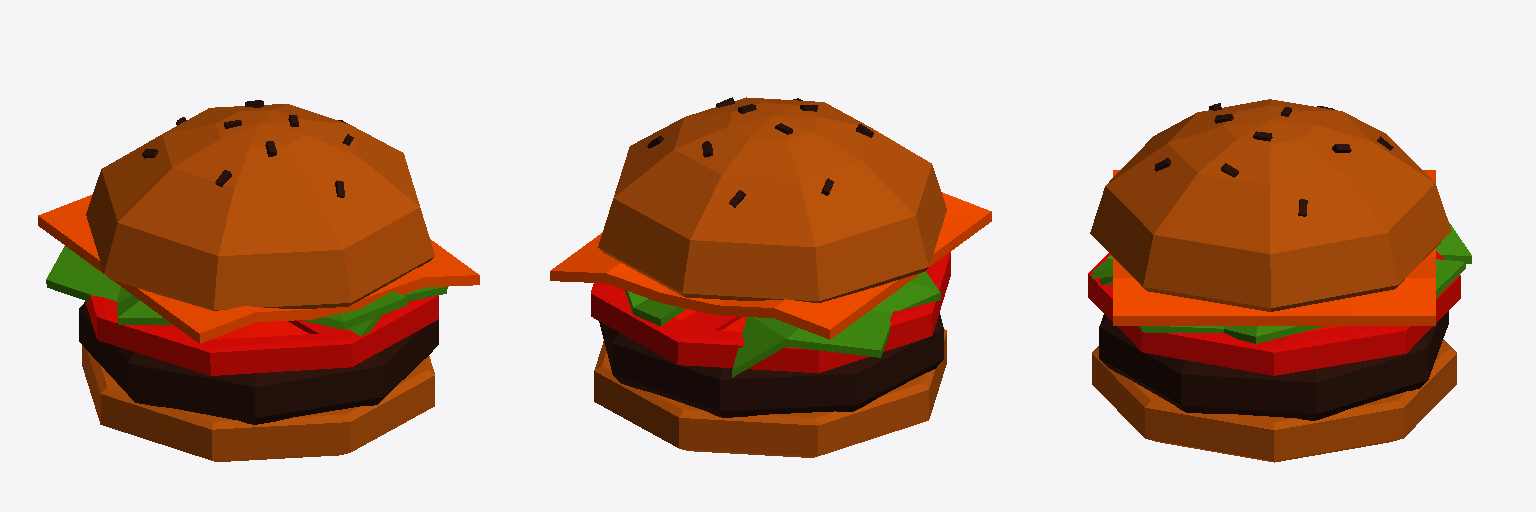
The model's file is hamburger.obj.
3 renders of one model, left to right at view 1: azimuth 30°, elevation 25°; view 2: azimuth 150°, elevation 25°; view 3: azimuth 270°, elevation 25°, orthographic.
Parts seen in each view (by area): view 1: Circle.003_Circle.004; view 2: Circle.003_Circle.004; view 3: Circle.003_Circle.004.
Boxes of the visible parts, x1,y1,x2,y2 form: Circle.003_Circle.004: [38, 100, 479, 461]; Circle.003_Circle.004: [550, 97, 991, 457]; Circle.003_Circle.004: [1088, 99, 1471, 462].
Size of the model in its own units: 12.36 by 10.03 by 12.73.